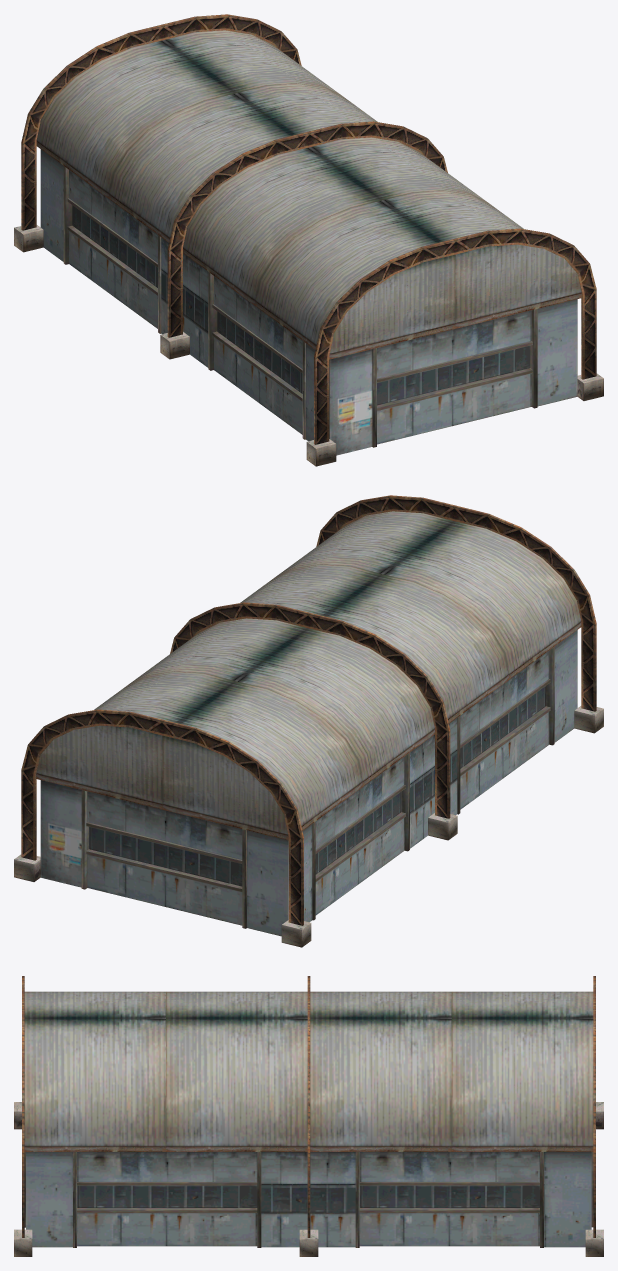
File: Building5.fbx
3 views of the same model, one above another, from view 1: azimuth 30°, elevation 25°; view 2: azimuth 150°, elevation 25°; view 3: azimuth 270°, elevation 25° (orthographic). The views are drawn at different scales.
Parts seen in each view (by area): view 1: Building_8; view 2: Building_8; view 3: Building_8.
Boxes of the visible parts, x1,y1,x2,y2 form: Building_8: (14, 14, 603, 466); Building_8: (14, 495, 603, 947); Building_8: (14, 976, 603, 1256).
Bounding box in the file's own units: 16.84 × 10.55 × 30.58.
